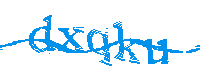d: (29, 15, 55, 52)
k: (113, 21, 140, 64)
q: (87, 28, 113, 68)
u: (143, 38, 169, 66)
x: (57, 27, 84, 51)
